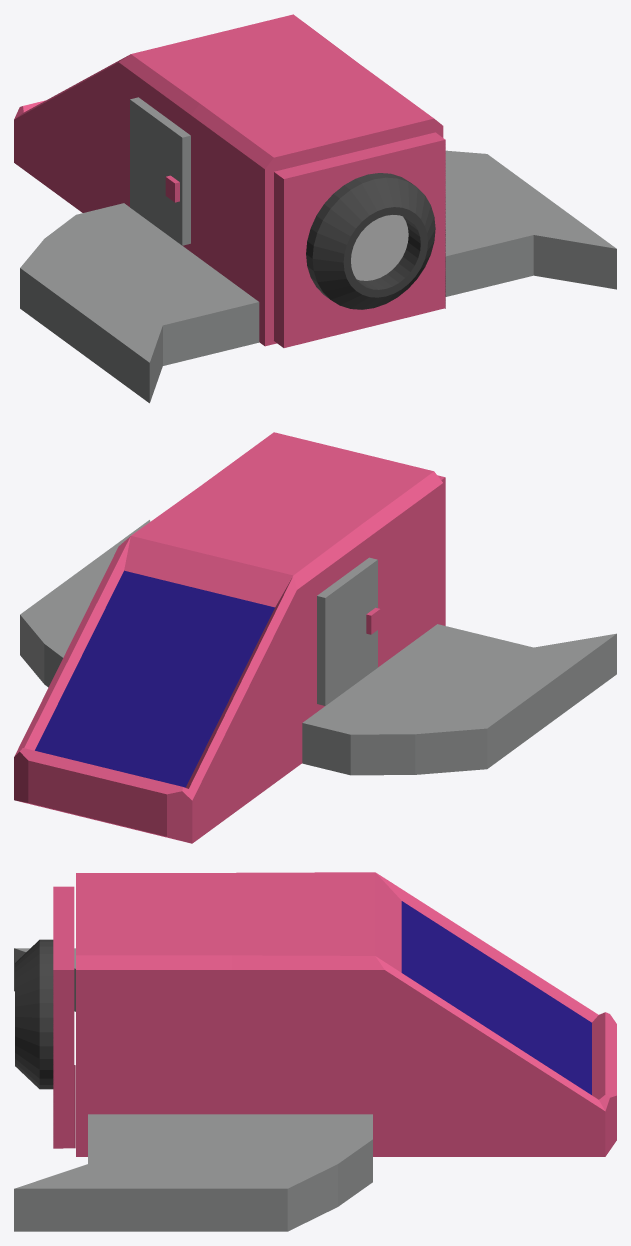
The model's file is Ship.glb.
3 renders of one model, top to bottom at view 1: azimuth 30°, elevation 25°; view 2: azimuth 150°, elevation 25°; view 3: azimuth 270°, elevation 25°, orthographic. The views are drawn at different scales.
Parts seen in each view (by area): view 1: Base, Wings, Back, Jet; view 2: Base, Wings; view 3: Base, Wings, Back, Jet.
Boxes of the visible parts, x1,y1,x2,y2 form: Base: (14, 14, 443, 346); Wings: (20, 150, 616, 403); Back: (273, 132, 445, 347); Jet: (306, 173, 435, 309); Base: (14, 432, 443, 843); Wings: (20, 520, 616, 775); Base: (76, 872, 616, 1156); Wings: (14, 948, 372, 1231); Back: (53, 886, 75, 1148); Jet: (15, 939, 53, 1089).
Bounding box in the file's own units: 5.24 × 2 × 5.55.
